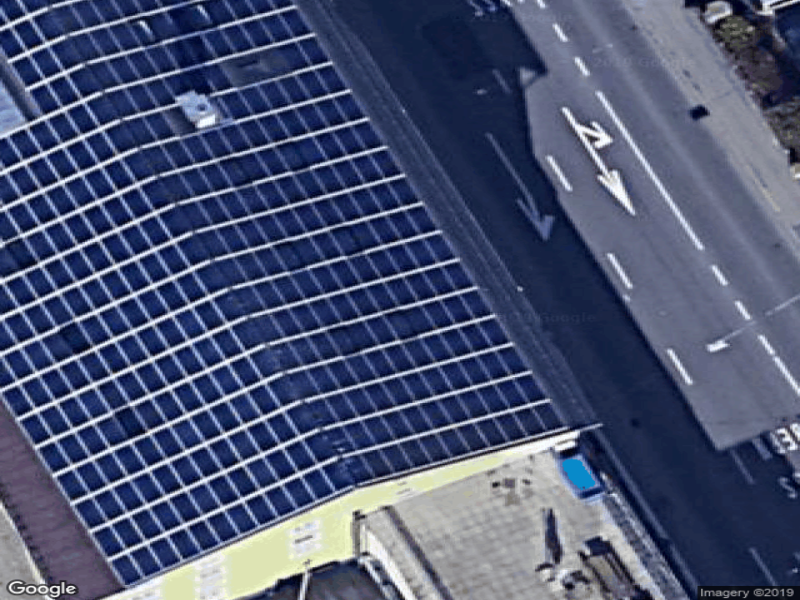pv: (1, 2, 570, 586)
